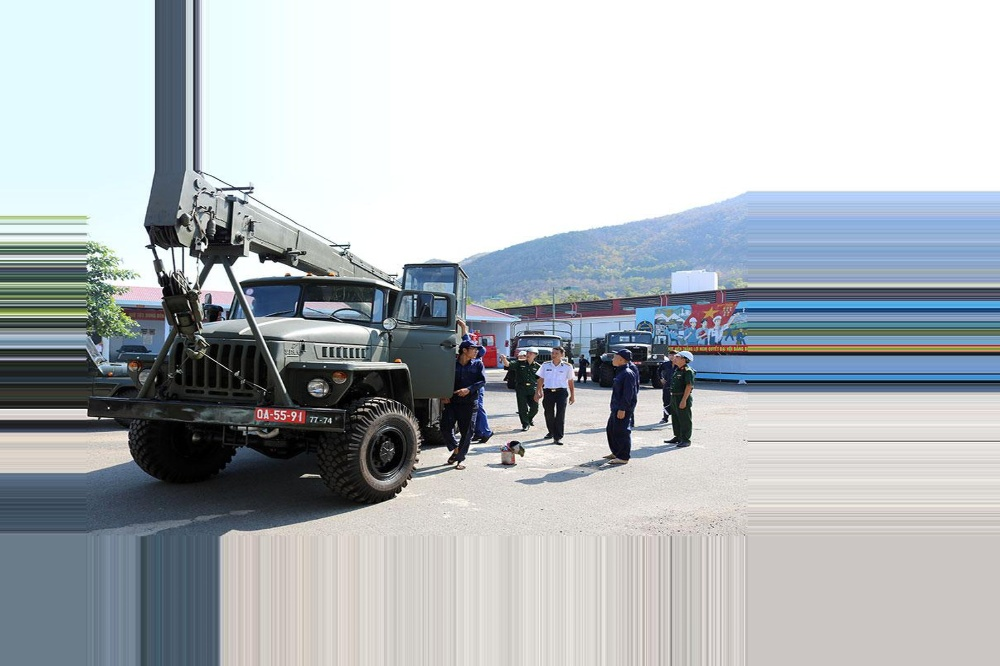plate: (252, 401, 311, 426)
